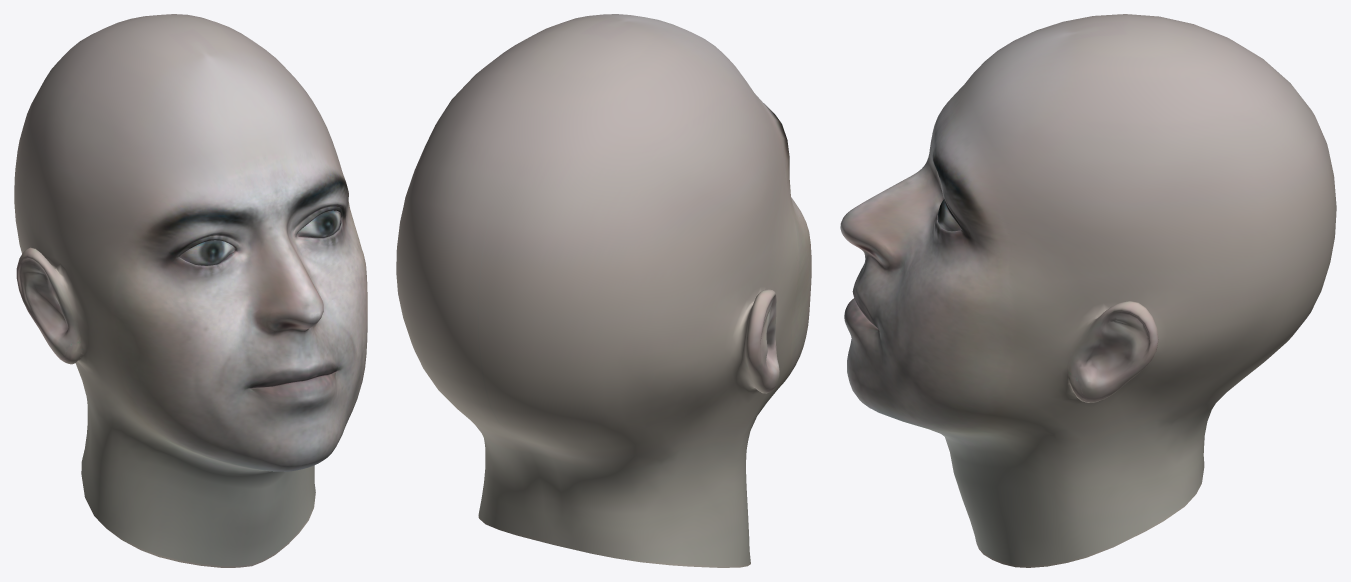
3 views of the same model, side by side, from view 1: azimuth 30°, elevation 25°; view 2: azimuth 150°, elevation 25°; view 3: azimuth 270°, elevation 25° (orthographic). The views are drawn at different scales.
Visible parts, largest first — view 1: skin_hi, eyeR_hi, eyeL_hi; view 2: skin_hi; view 3: skin_hi.
Part boxes in pixels (x1,y1,x2,y2): skin_hi: (14, 14, 367, 567); eyeR_hi: (179, 240, 234, 265); eyeL_hi: (297, 210, 340, 237); skin_hi: (396, 14, 811, 567); skin_hi: (840, 14, 1336, 567).
Size of the model in its own units: 187 by 279 by 244.
3 materials, 3 textured.
